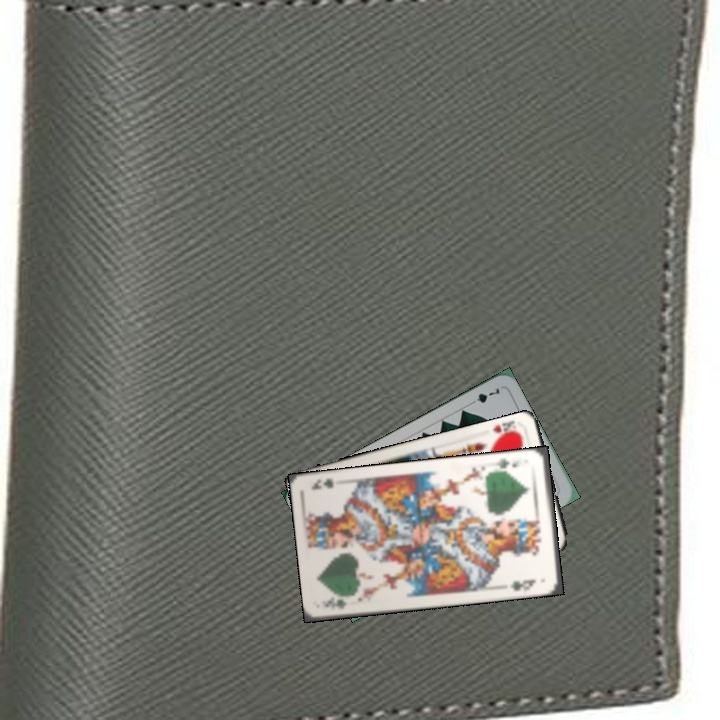G7: (465, 384, 502, 408)
GK: (492, 454, 523, 475), (321, 595, 350, 611)
HK: (489, 417, 522, 443)
